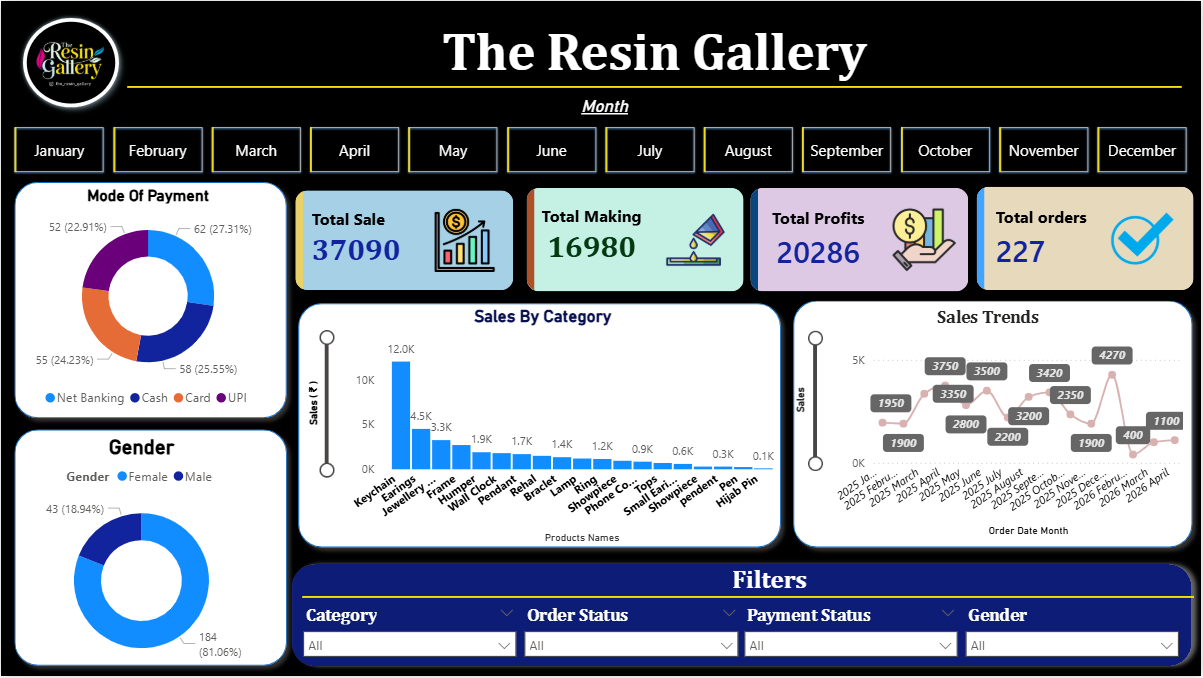

The page's visual inventory and layout, read from the dashboard file:
{"tool":"powerbi","page":{"name":"Page 1","canvas":[1280,720],"ordinal":0},"visuals":[{"type":"group","id":"g1","title":"Group 1","box":[13.8,8.8,120,112.9],"z":0,"group":"g2"},{"type":"shape","box":[5.6,184,308.3,270],"z":0,"group":"g3"},{"type":"shape","box":[300,591.2,980,128.8],"z":0},{"type":"shape","box":[13.8,8.8,120,112.9],"z":1,"group":"g1"},{"type":"image","box":[24.3,13.5,96.7,105.1],"z":501,"group":"g1"},{"type":"shape","box":[134.5,73.3,1125,36.7],"z":1000,"group":"g2"},{"type":"shape","box":[5.7,448.6,308.6,270],"z":1000},{"type":"group","id":"g2","title":"Group 2","box":[6.2,8.8,1273.3,305.3],"z":2000},{"type":"textbox","box":[470,20,532,103.3],"z":2000,"group":"g2"},{"type":"advancedSlicerVisual","fields":{"Values":["Data.Order Date.Variation.Date Hierarchy.Month"]},"box":[6.2,90,1273.3,105],"z":3000,"group":"g2"},{"type":"shape","box":[836.4,310,443.9,281.2],"z":3000,"group":"g4"},{"type":"shape","box":[321.1,617.8,951.1,36.7],"z":3000},{"type":"group","id":"g3","title":"Group 4","box":[5.6,184,308.3,270],"z":4000},{"type":"cardVisual","fields":{"Data":["Data.Total Sale"]},"box":[308.5,196.1,242.5,116.2],"z":4000,"group":"g2"},{"type":"lineChart","title":"Sales Trends","fields":{"Y":["Sum(Data.Selling Price)"],"Category":["Data.Order Date.Variation.Date Hierarchy.Year","Data.Order Date.Variation.Date Hierarchy.Month"]},"box":[840.8,325.1,425.5,251.2],"z":4000,"group":"g4"},{"type":"donutChart","title":"Mode Of Payment ","fields":{"Category":["Data.Mode of Payment"],"Y":["CountNonNull(Data.Mode of Payment)"]},"box":[0,192.5,313.8,250],"z":5000},{"type":"cardVisual","fields":{"Data":["Data.Total Making"]},"box":[555.2,193.6,241.4,120],"z":5000,"group":"g2"},{"type":"cardVisual","fields":{"Data":["Data.Total Profits"]},"box":[794.7,194.1,242.9,120],"z":6000,"group":"g2"},{"type":"donutChart","title":" Gender ","fields":{"Category":["Data.Gender"],"Y":["CountNonNull(Data.Gender)"]},"box":[0,462.2,300,257.8],"z":6000},{"type":"cardVisual","fields":{"Data":["CountNonNull(Data.Sr.no)"]},"box":[1035.2,192.9,241.4,120],"z":7000,"group":"g2"},{"type":"group","id":"g4","title":"Group 3","box":[836.4,310,443.6,280.9],"z":7000},{"type":"textbox","box":[780,600,225.7,54.3],"z":8000},{"type":"slicer","fields":{"Values":["Data.Products Names"]},"box":[312.5,638.8,247.5,67.5],"z":9000},{"type":"slicer","fields":{"Values":["Data.Order"]},"box":[547.5,638.8,248.8,66.2],"z":10000},{"type":"slicer","fields":{"Values":["Data.Payment"]},"box":[782.5,638.8,247.5,67.5],"z":11000},{"type":"slicer","fields":{"Values":["Data.Gender"]},"box":[1018.8,638.8,247.5,67.5],"z":12000},{"type":"shape","box":[308.6,312.9,532.9,278.6],"z":13000},{"type":"clusteredColumnChart","title":"Sales By Category","fields":{"Category":["Data.Products Names"],"Y":["Sum(Data.Selling Price)"]},"box":[309.1,325.5,527.3,258.2],"z":14000}]}

Visuals, with their boxes in screenshot pixels (x1, y1, x2, y2), scaled from the page's 1280x720 canvas onto the 1203x678 screenshot:
"Group 1" group: Rect(13, 8, 126, 115)
shape: Rect(5, 173, 295, 428)
shape: Rect(282, 557, 1202, 677)
shape: Rect(13, 8, 126, 115)
image: Rect(23, 13, 114, 112)
shape: Rect(126, 69, 1184, 104)
shape: Rect(5, 422, 295, 677)
"Group 2" group: Rect(6, 8, 1202, 296)
textbox: Rect(442, 19, 942, 116)
advancedSlicerVisual - Data.Order Date.Variation.Date Hierarchy.Month: Rect(6, 85, 1202, 184)
shape: Rect(786, 292, 1202, 557)
shape: Rect(302, 582, 1196, 616)
"Group 4" group: Rect(5, 173, 295, 428)
cardVisual - Data.Total Sale: Rect(290, 185, 518, 294)
"Sales Trends" lineChart: Rect(790, 306, 1190, 543)
"Mode Of Payment " donutChart: Rect(0, 181, 295, 417)
cardVisual - Data.Total Making: Rect(522, 182, 749, 295)
cardVisual - Data.Total Profits: Rect(747, 183, 975, 296)
" Gender " donutChart: Rect(0, 435, 282, 677)
cardVisual - CountNonNull(Data.Sr.no): Rect(973, 182, 1200, 295)
"Group 3" group: Rect(786, 292, 1202, 556)
textbox: Rect(733, 565, 945, 616)
slicer - Data.Products Names: Rect(294, 602, 526, 665)
slicer - Data.Order: Rect(515, 602, 748, 664)
slicer - Data.Payment: Rect(735, 602, 968, 665)
slicer - Data.Gender: Rect(958, 602, 1190, 665)
shape: Rect(290, 295, 791, 557)
"Sales By Category" clusteredColumnChart: Rect(291, 307, 786, 550)
